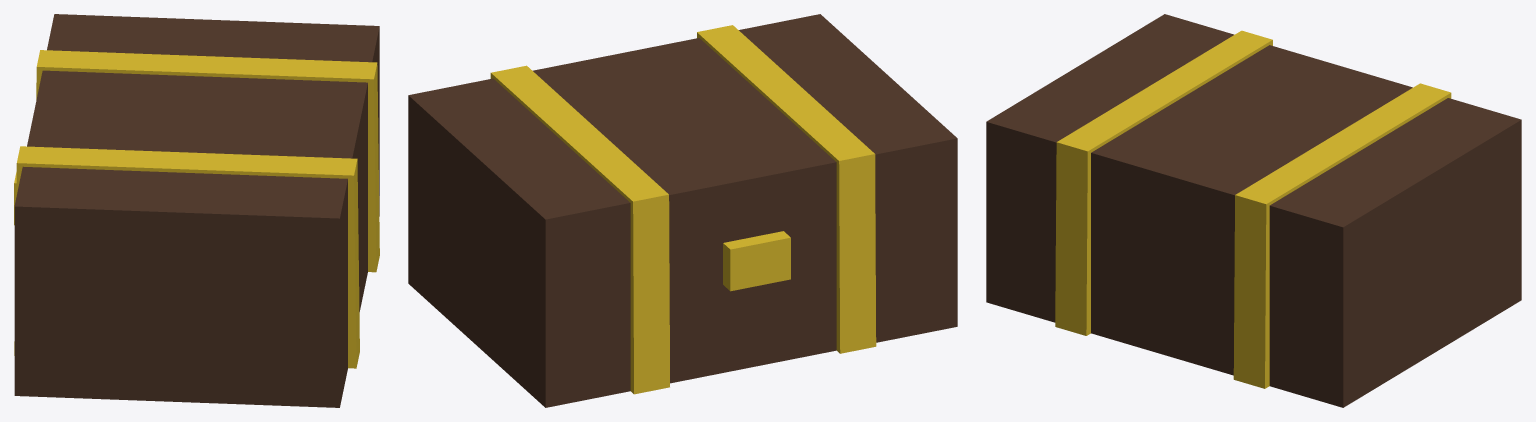
The model's file is TreasureChest.fbx.
3 renders of one model, left to right at view 1: azimuth 30°, elevation 25°; view 2: azimuth 150°, elevation 25°; view 3: azimuth 270°, elevation 25°, orthographic. The views are drawn at different scales.
Visible parts, largest first — view 1: Wood, Metal; view 2: Wood, Metal; view 3: Wood, Metal.
Part boxes in pixels (x1,y1,x2,y2): Wood: (14, 14, 379, 407); Metal: (14, 50, 379, 368); Wood: (408, 14, 957, 407); Metal: (490, 25, 876, 394); Wood: (986, 14, 1521, 407); Metal: (1055, 30, 1451, 388).
Bounding box in the file's own units: 203 × 81.46 × 215.
